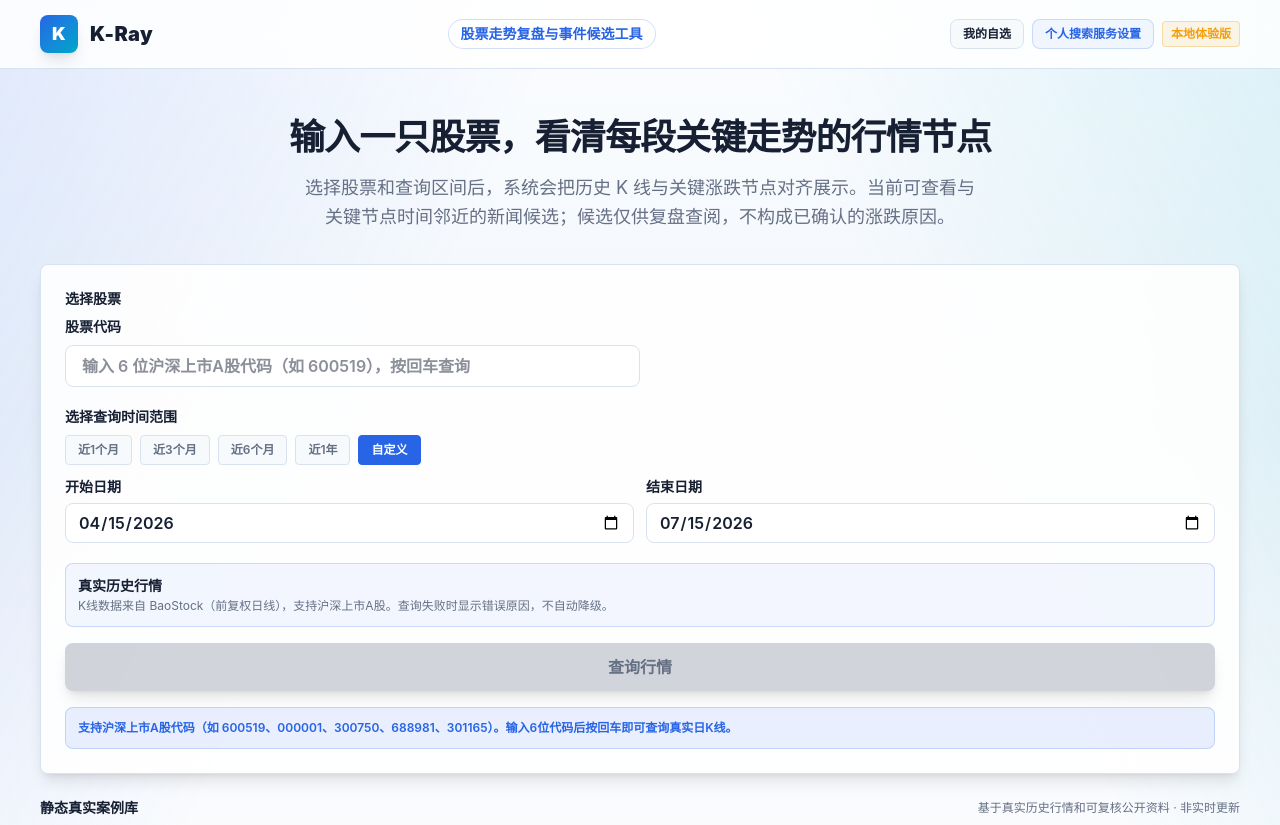
Test: 第十一阶段 A 前端测试 - 用户未来事件日历 › 测试15: 真实行情查询后用户录入日历仍正常显示
Type "600519" into the field with placeholder "输入 6 位沪深上市A股代码（如 600519），按回车查询" at (352, 366), box left=65, top=344, right=640, bottom=386
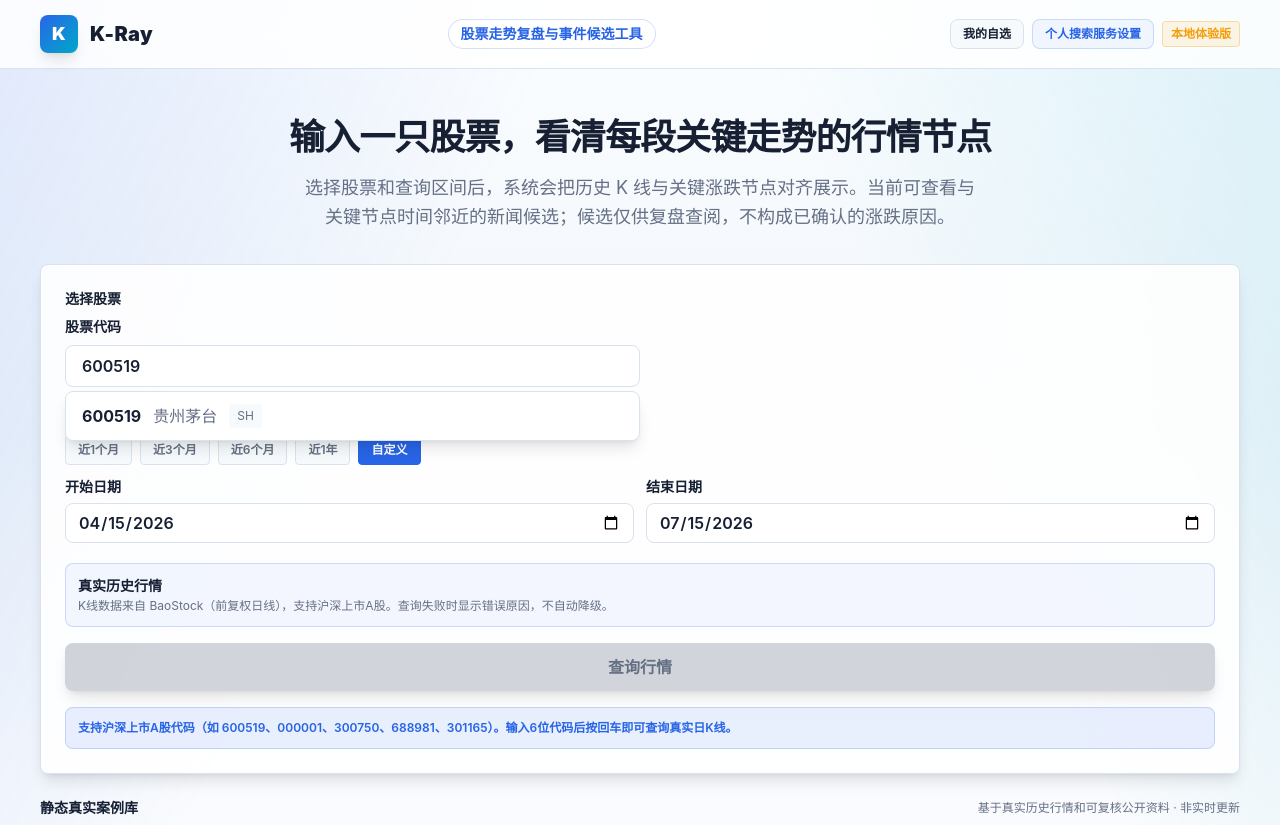
Result: the button "600519 贵州茅台 SH" is shown
Click the button "600519 贵州茅台 SH" at (112, 416), box left=66, top=392, right=639, bottom=440
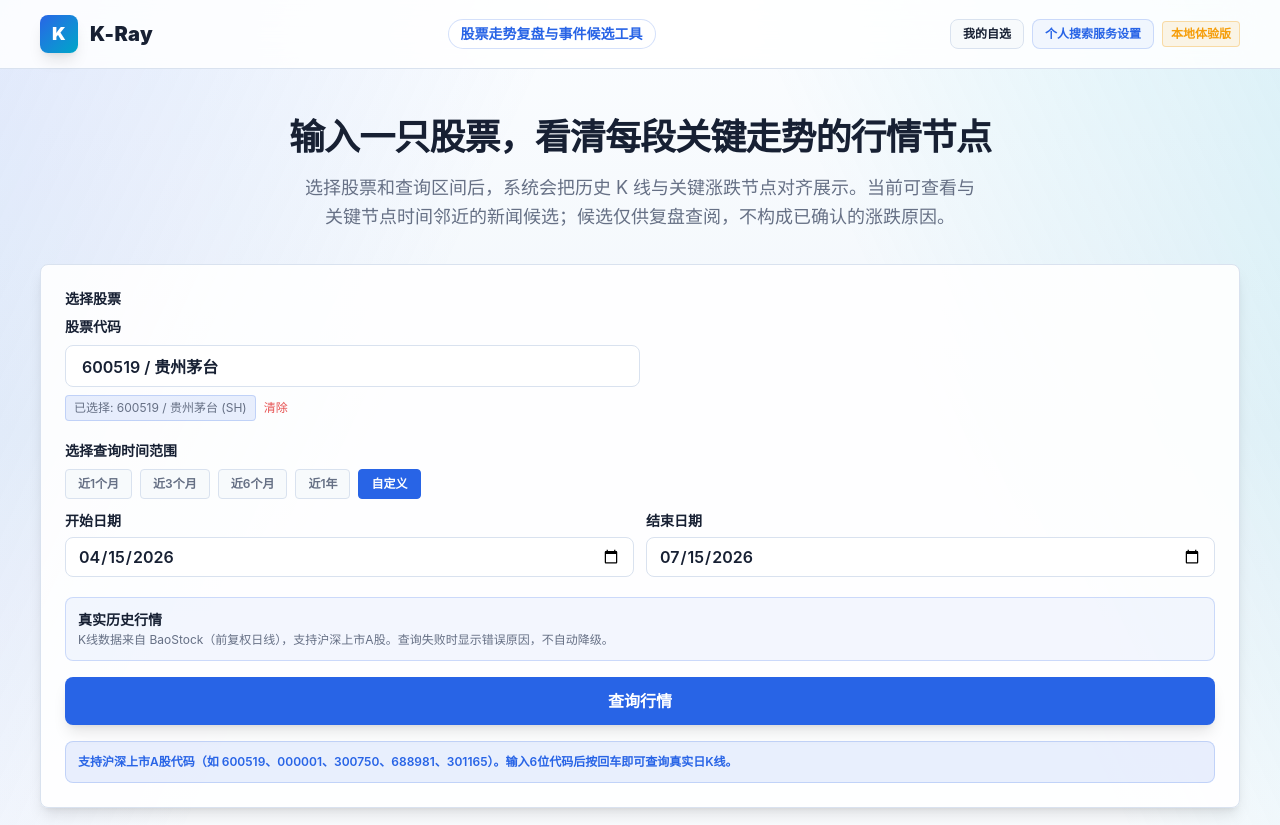
Click the button "查询行情" at (640, 700), box left=65, top=676, right=1215, bottom=724
(page scrolled)
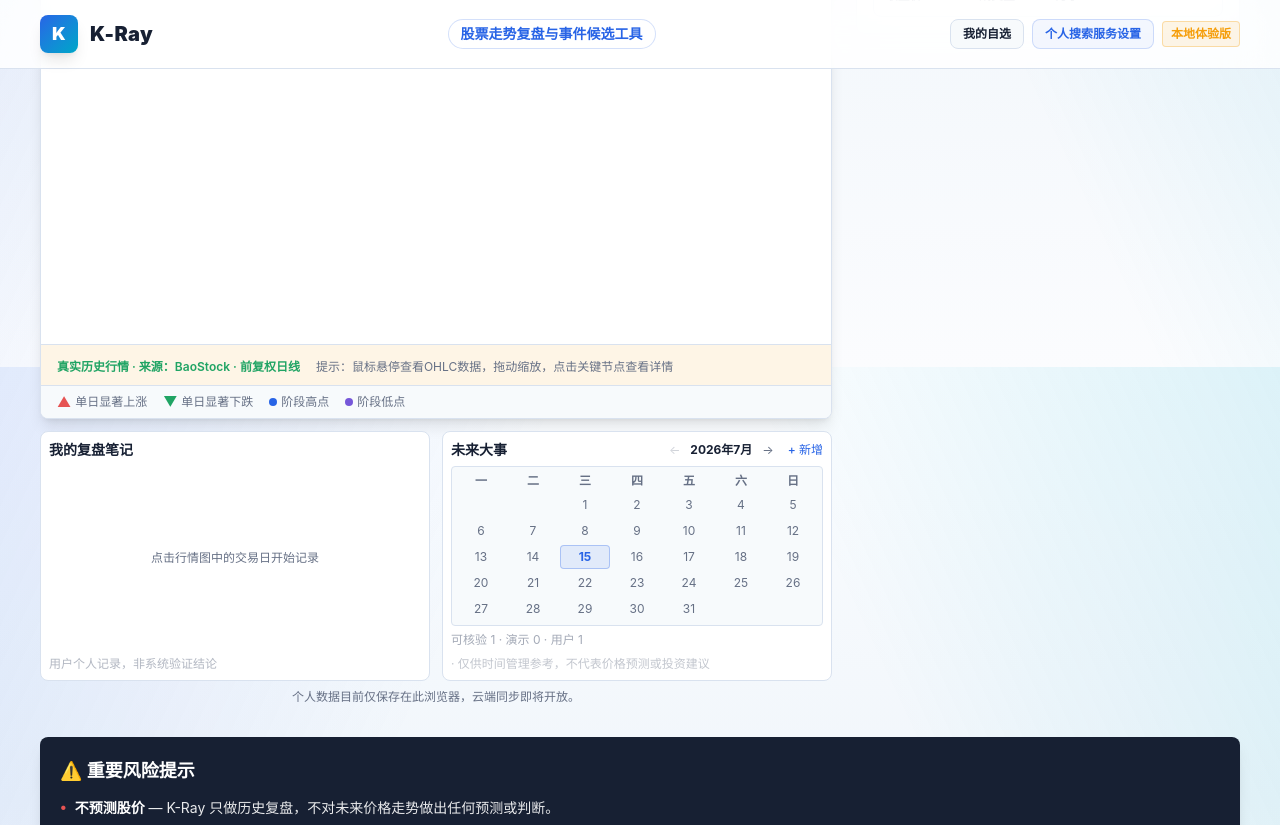
Result: the element with test id "calendar-card-wrapper" is shown at left=442, top=431, right=832, bottom=681
Result: the text with test id "calendar-month-label" reads "2026年7月" at left=690, top=442, right=752, bottom=457
Click the button with test id "calendar-next-month" at (768, 450), box left=758, top=440, right=778, bottom=460
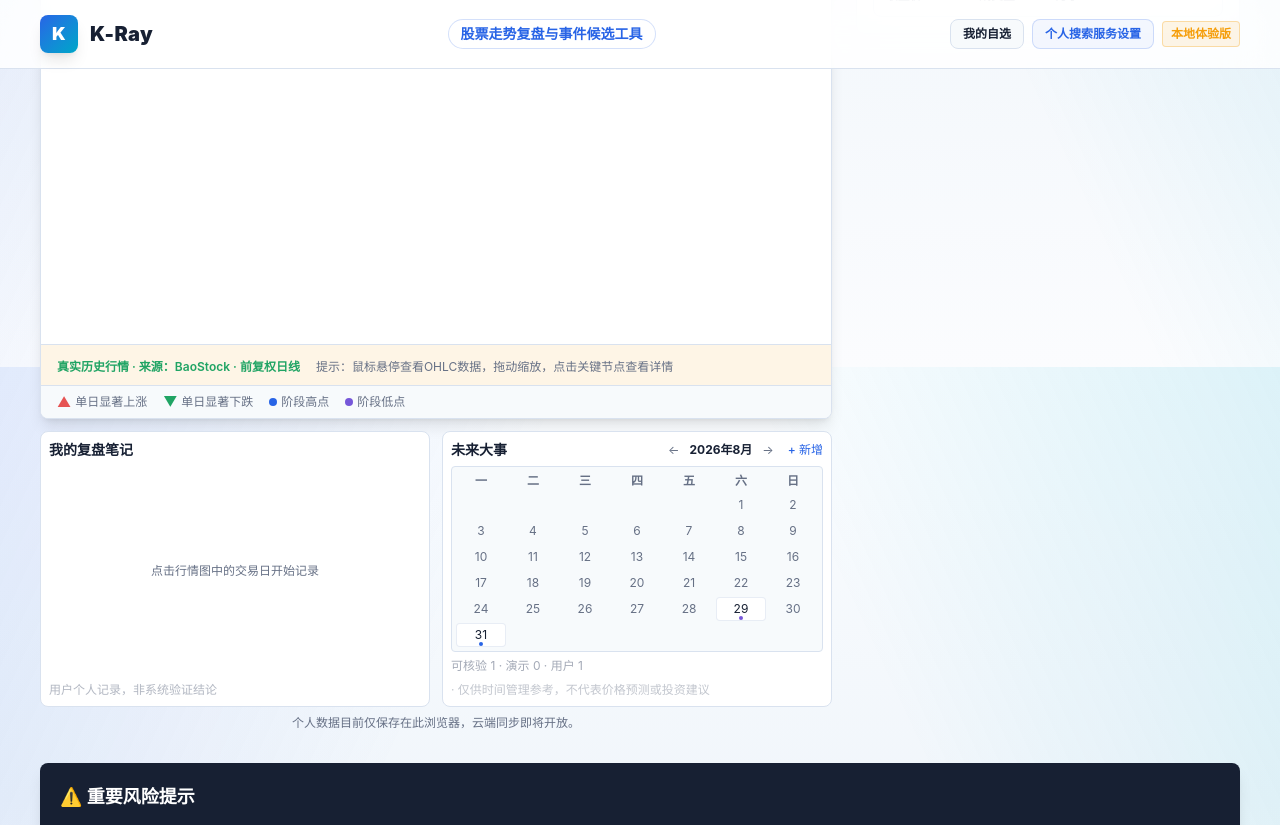
Click the button "29" at (741, 609), box left=716, top=597, right=766, bottom=621
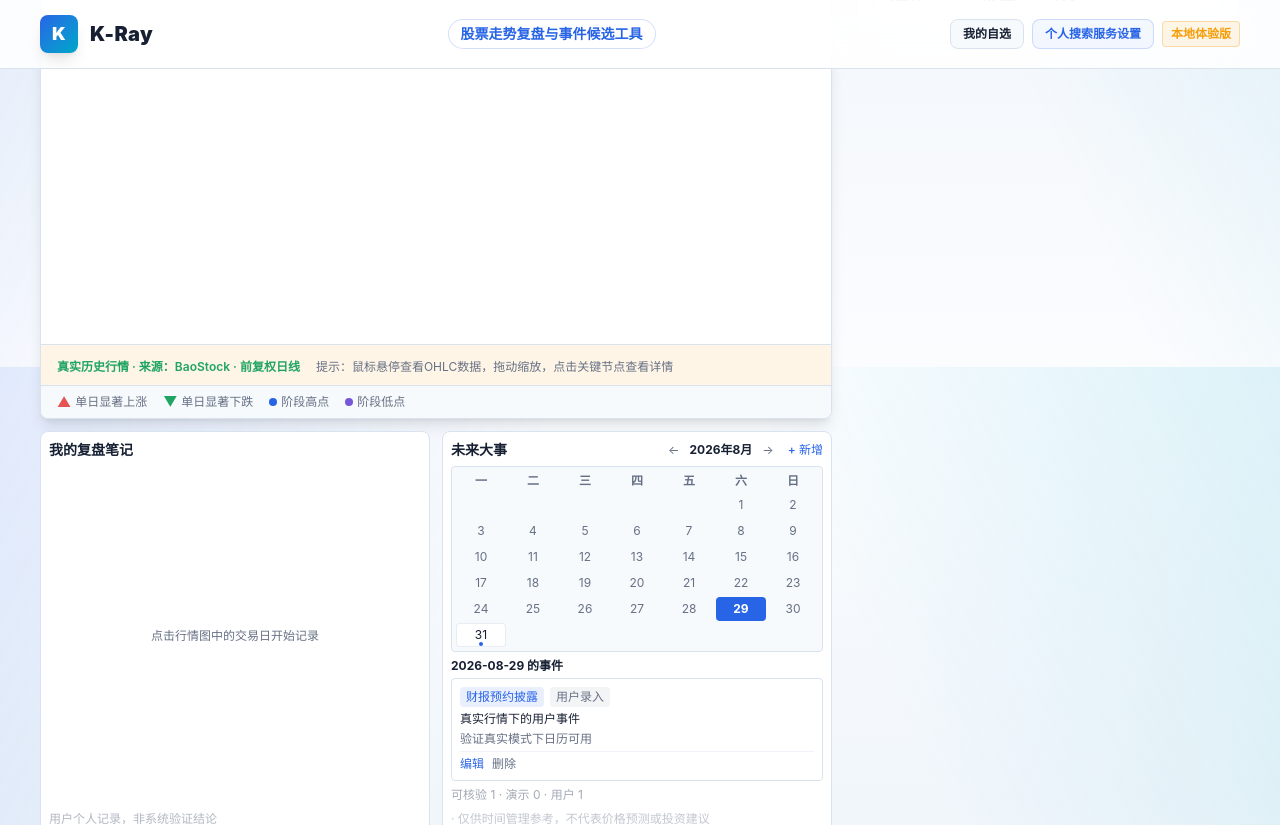
Result: the element with test id "selected-date-events" is shown at left=451, top=658, right=823, bottom=781
Result: the element with test id "stock-event-calendar" shows "真实行情下的用户事件" at left=460, top=711, right=580, bottom=726
